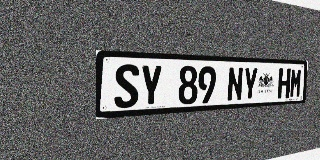8: (178, 66, 198, 105)
9: (198, 66, 216, 103)
H: (277, 68, 291, 99)
M: (289, 68, 302, 98)
N: (227, 67, 243, 102)
S: (114, 64, 139, 109)
Y: (140, 65, 163, 107), (242, 67, 258, 101)
